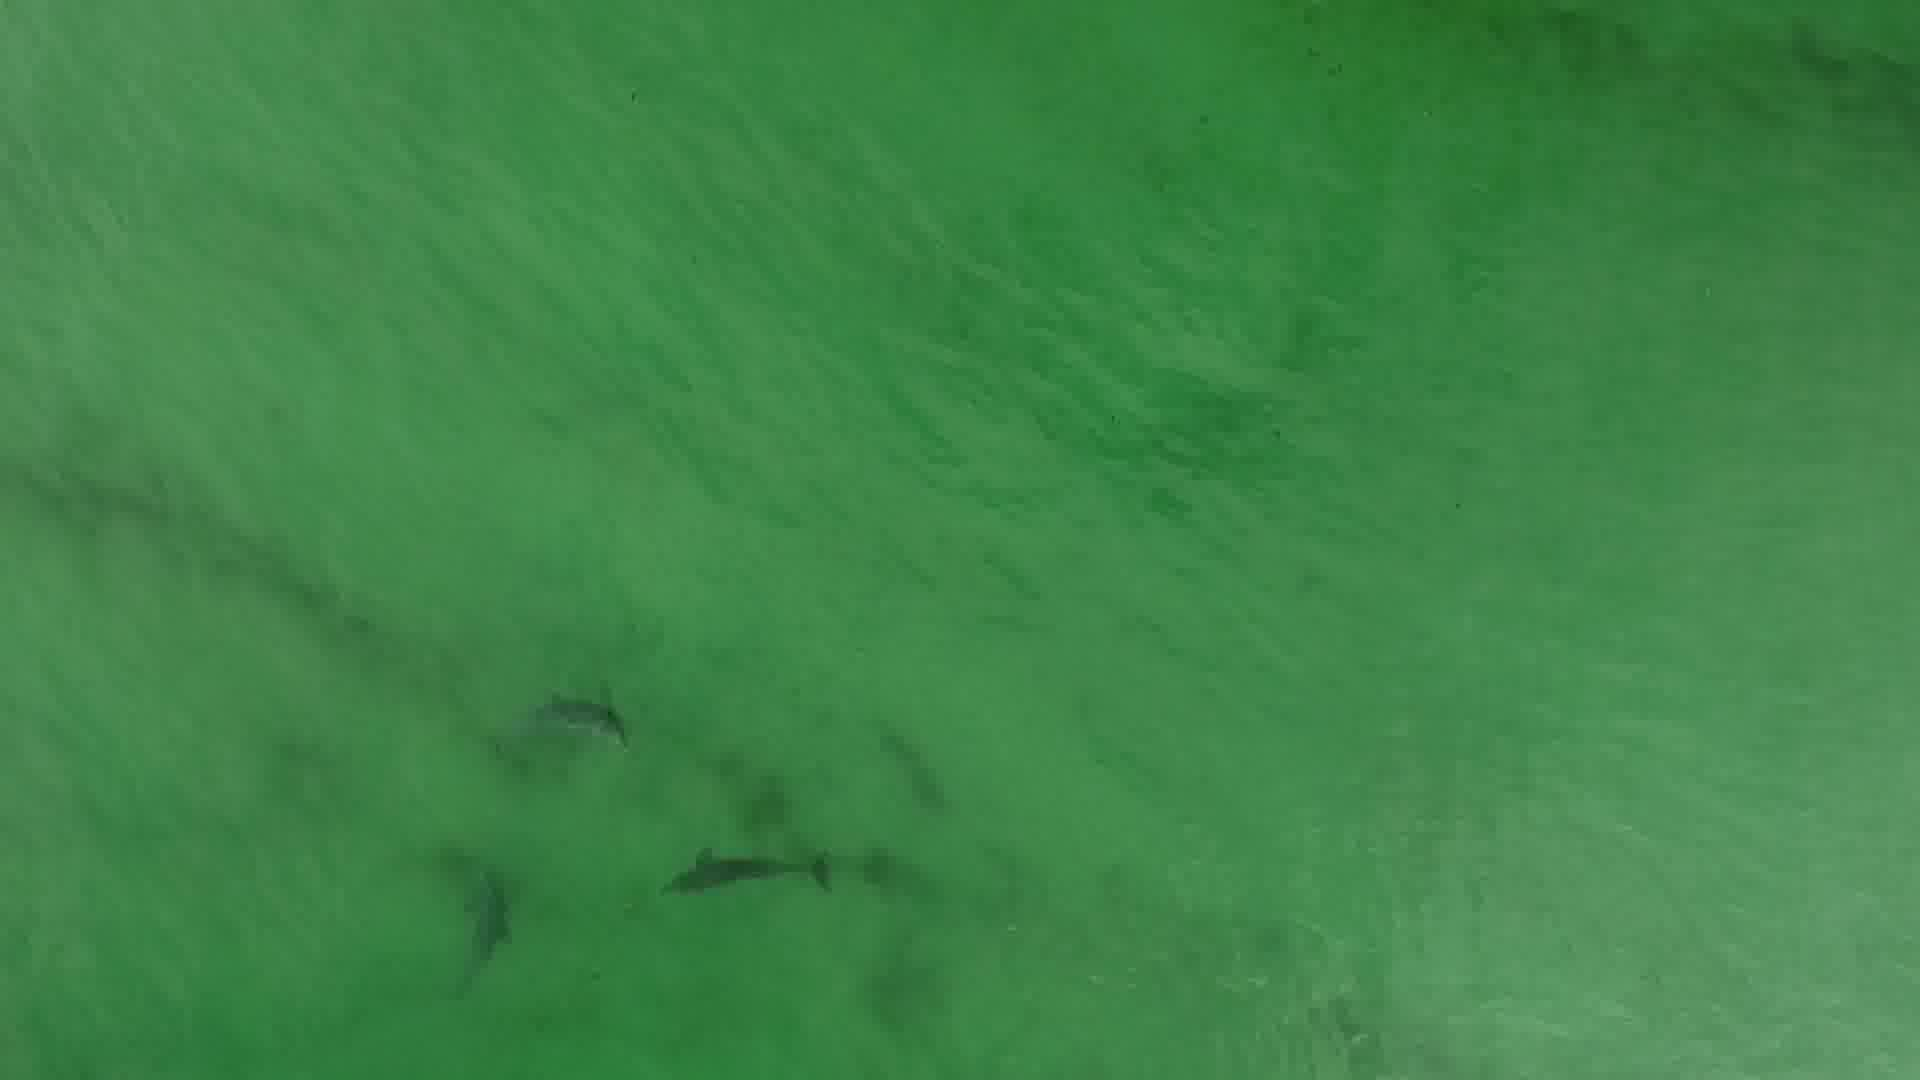dolphin: (646, 822, 870, 920), (409, 852, 554, 996), (501, 659, 646, 766)
